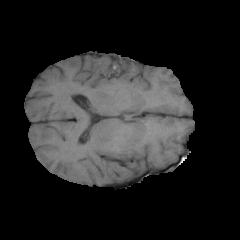glioma: (106, 57, 136, 84)
